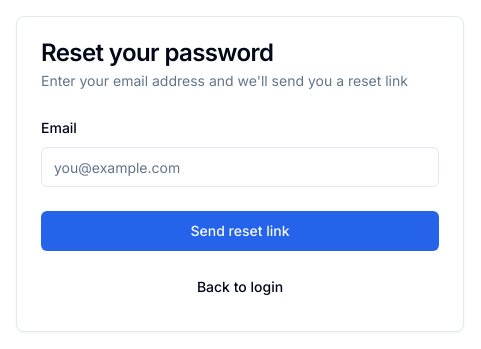
Test: ResetPasswordPage › Password Reset Flow - Success › should show success message after sending reset email
Step 1. Type "test@example.com" into the field labelled "Email" → (240, 167), box [41,147,439,187]
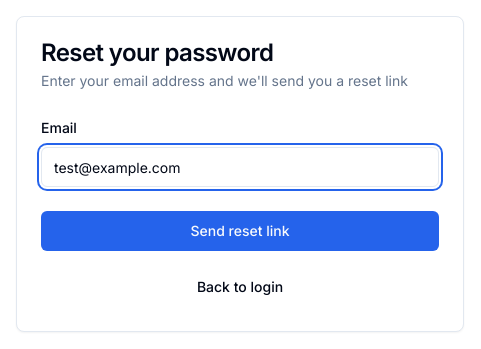
Step 2. Click the button "Send reset link" → (240, 231), box [41,211,439,251]
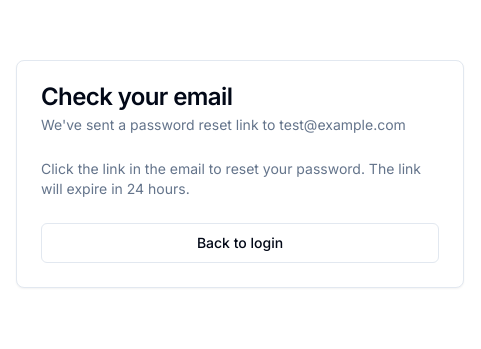
expect the heading "Check your email" is shown: met, box [41,82,232,111]
expect the text "We've sent a password reset link to test@example.com" is shown: met, box [41,115,439,135]
